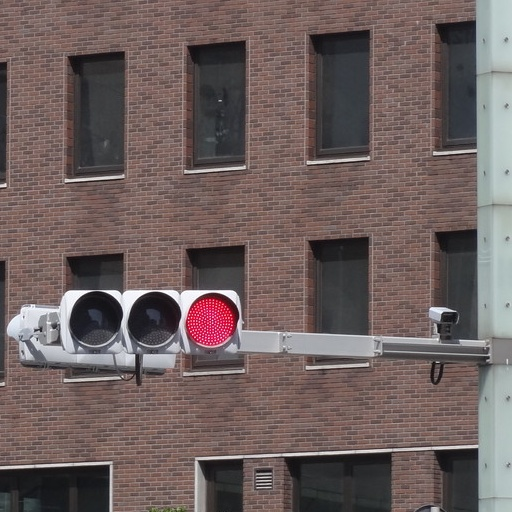Traffic_Signal_Red: (60, 284, 246, 356)
